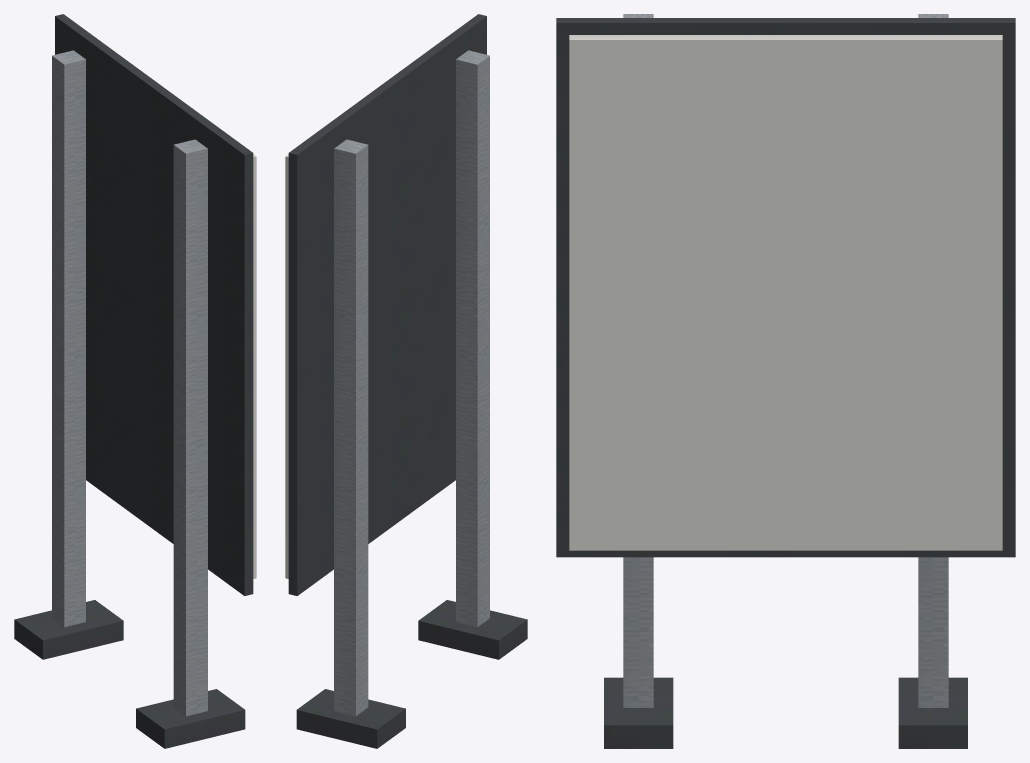
The model's file is braking-board_mobile.glb.
The picture shows the model from 3 angles, left to right: view 1: azimuth 30°, elevation 25°; view 2: azimuth 150°, elevation 25°; view 3: azimuth 270°, elevation 25°; orthographic projection. The views are drawn at different scales.
Visible parts, largest first — view 1: dark-steel, galvanised, board-face; view 2: dark-steel, galvanised, board-face; view 3: board-face, dark-steel, galvanised.
Boxes of the visible parts, x1,y1,x2,y2 form: dark-steel: [14, 14, 253, 748]; galvanised: [52, 50, 207, 716]; board-face: [253, 154, 256, 578]; dark-steel: [288, 14, 527, 748]; galvanised: [334, 50, 489, 716]; board-face: [285, 154, 288, 578]; board-face: [569, 35, 1002, 550]; dark-steel: [556, 18, 1015, 748]; galvanised: [623, 14, 948, 707].
Bounding box in the file's own units: 0.26 × 1.83 × 1.06.
Materials: 3 (2 with a texture image).
